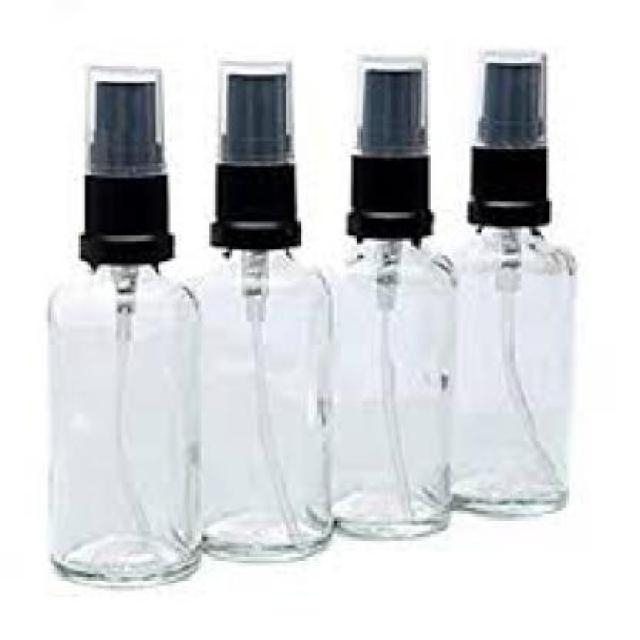kaca: (48, 262, 198, 580), (192, 243, 326, 557), (329, 235, 445, 534), (448, 224, 563, 510)
